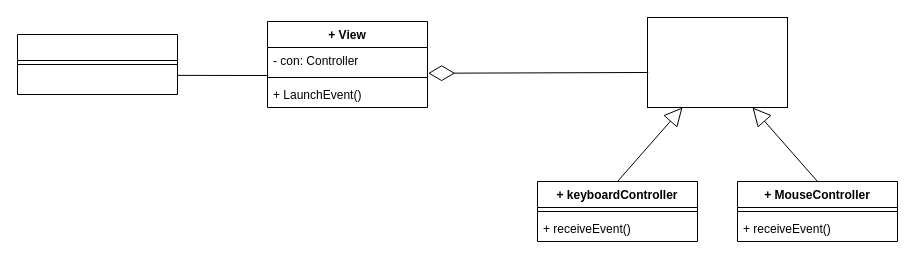
This 915x262 diagram has some shape labels left out. The centre of each missing label's shape, as x and y in pixels:
+ Client: pixel 97 64
<<Abstract>> + Controller + receiveEvent(): pixel 717 62
